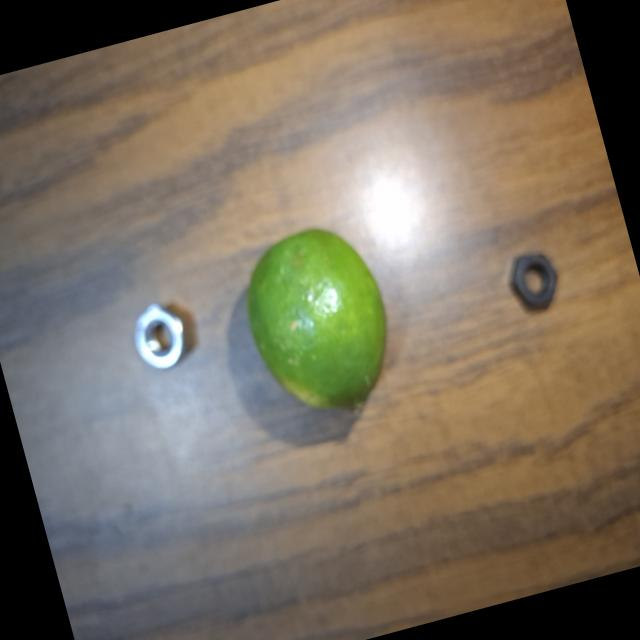limon: (227, 207, 418, 438)
milimetrico: (490, 225, 578, 322)
tuerca: (112, 281, 200, 382)
